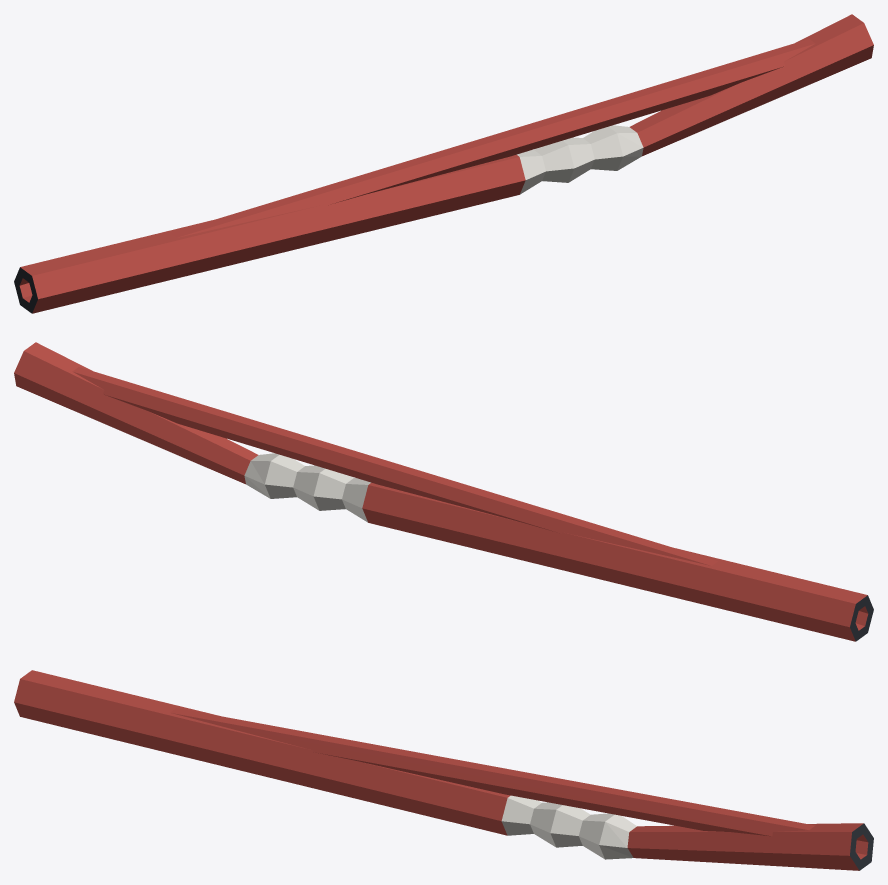
Rendered from straw_short.glb.
3 views of the same model, one above another, from view 1: azimuth 30°, elevation 25°; view 2: azimuth 150°, elevation 25°; view 3: azimuth 330°, elevation 25° (orthographic).
Parts seen in each view (by area): view 1: straw_short; view 2: straw_short; view 3: straw_short.
Part boxes in pixels (x1,y1,x2,y2): straw_short: [14, 14, 873, 313]; straw_short: [14, 342, 873, 641]; straw_short: [14, 670, 873, 870].
Size of the model in its own units: 0.12 by 0.012 by 0.00597.
